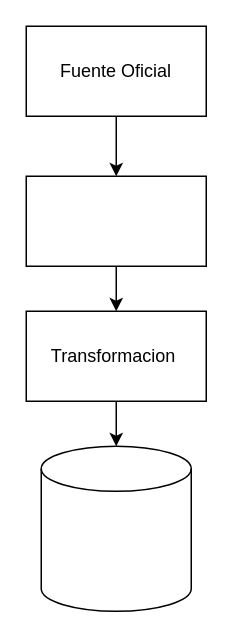
Some shapes in this 233 by 638 pixel diagram are drawn without their labels. The box of each missing label's shape, as (x1, y1, x2, y2) in pixels:
Almacenamiento Base de Datos Vectorizado: (40, 445, 191, 611)
Extracción: (25, 175, 206, 266)
